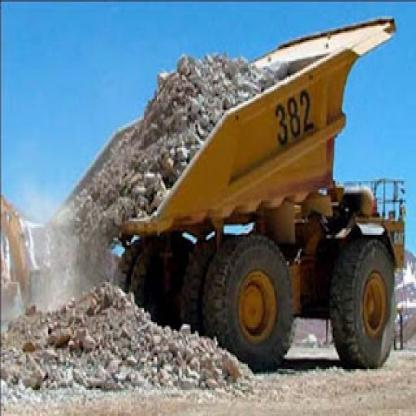dump_truck: (44, 7, 415, 369)
